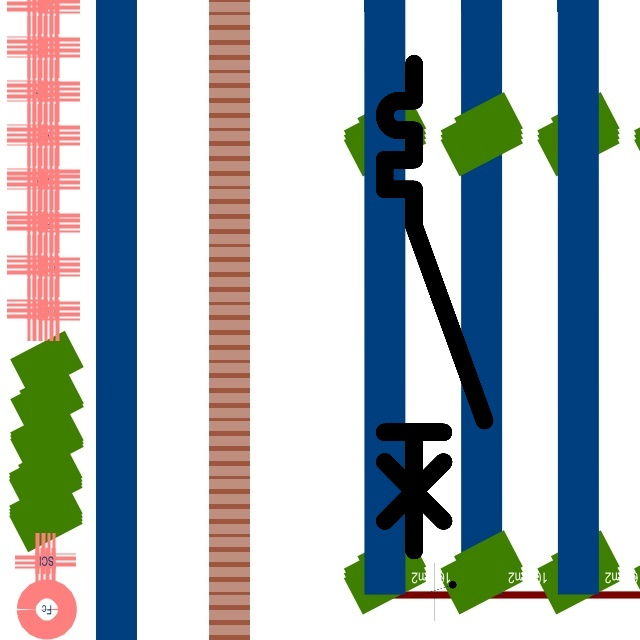interruptor_termomagnetico: (372, 51, 497, 563)
